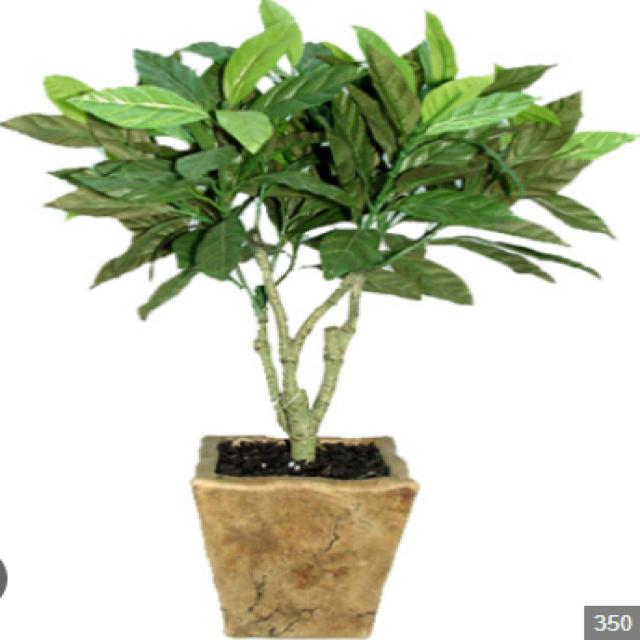Plant Pot: (185, 438, 422, 640)
